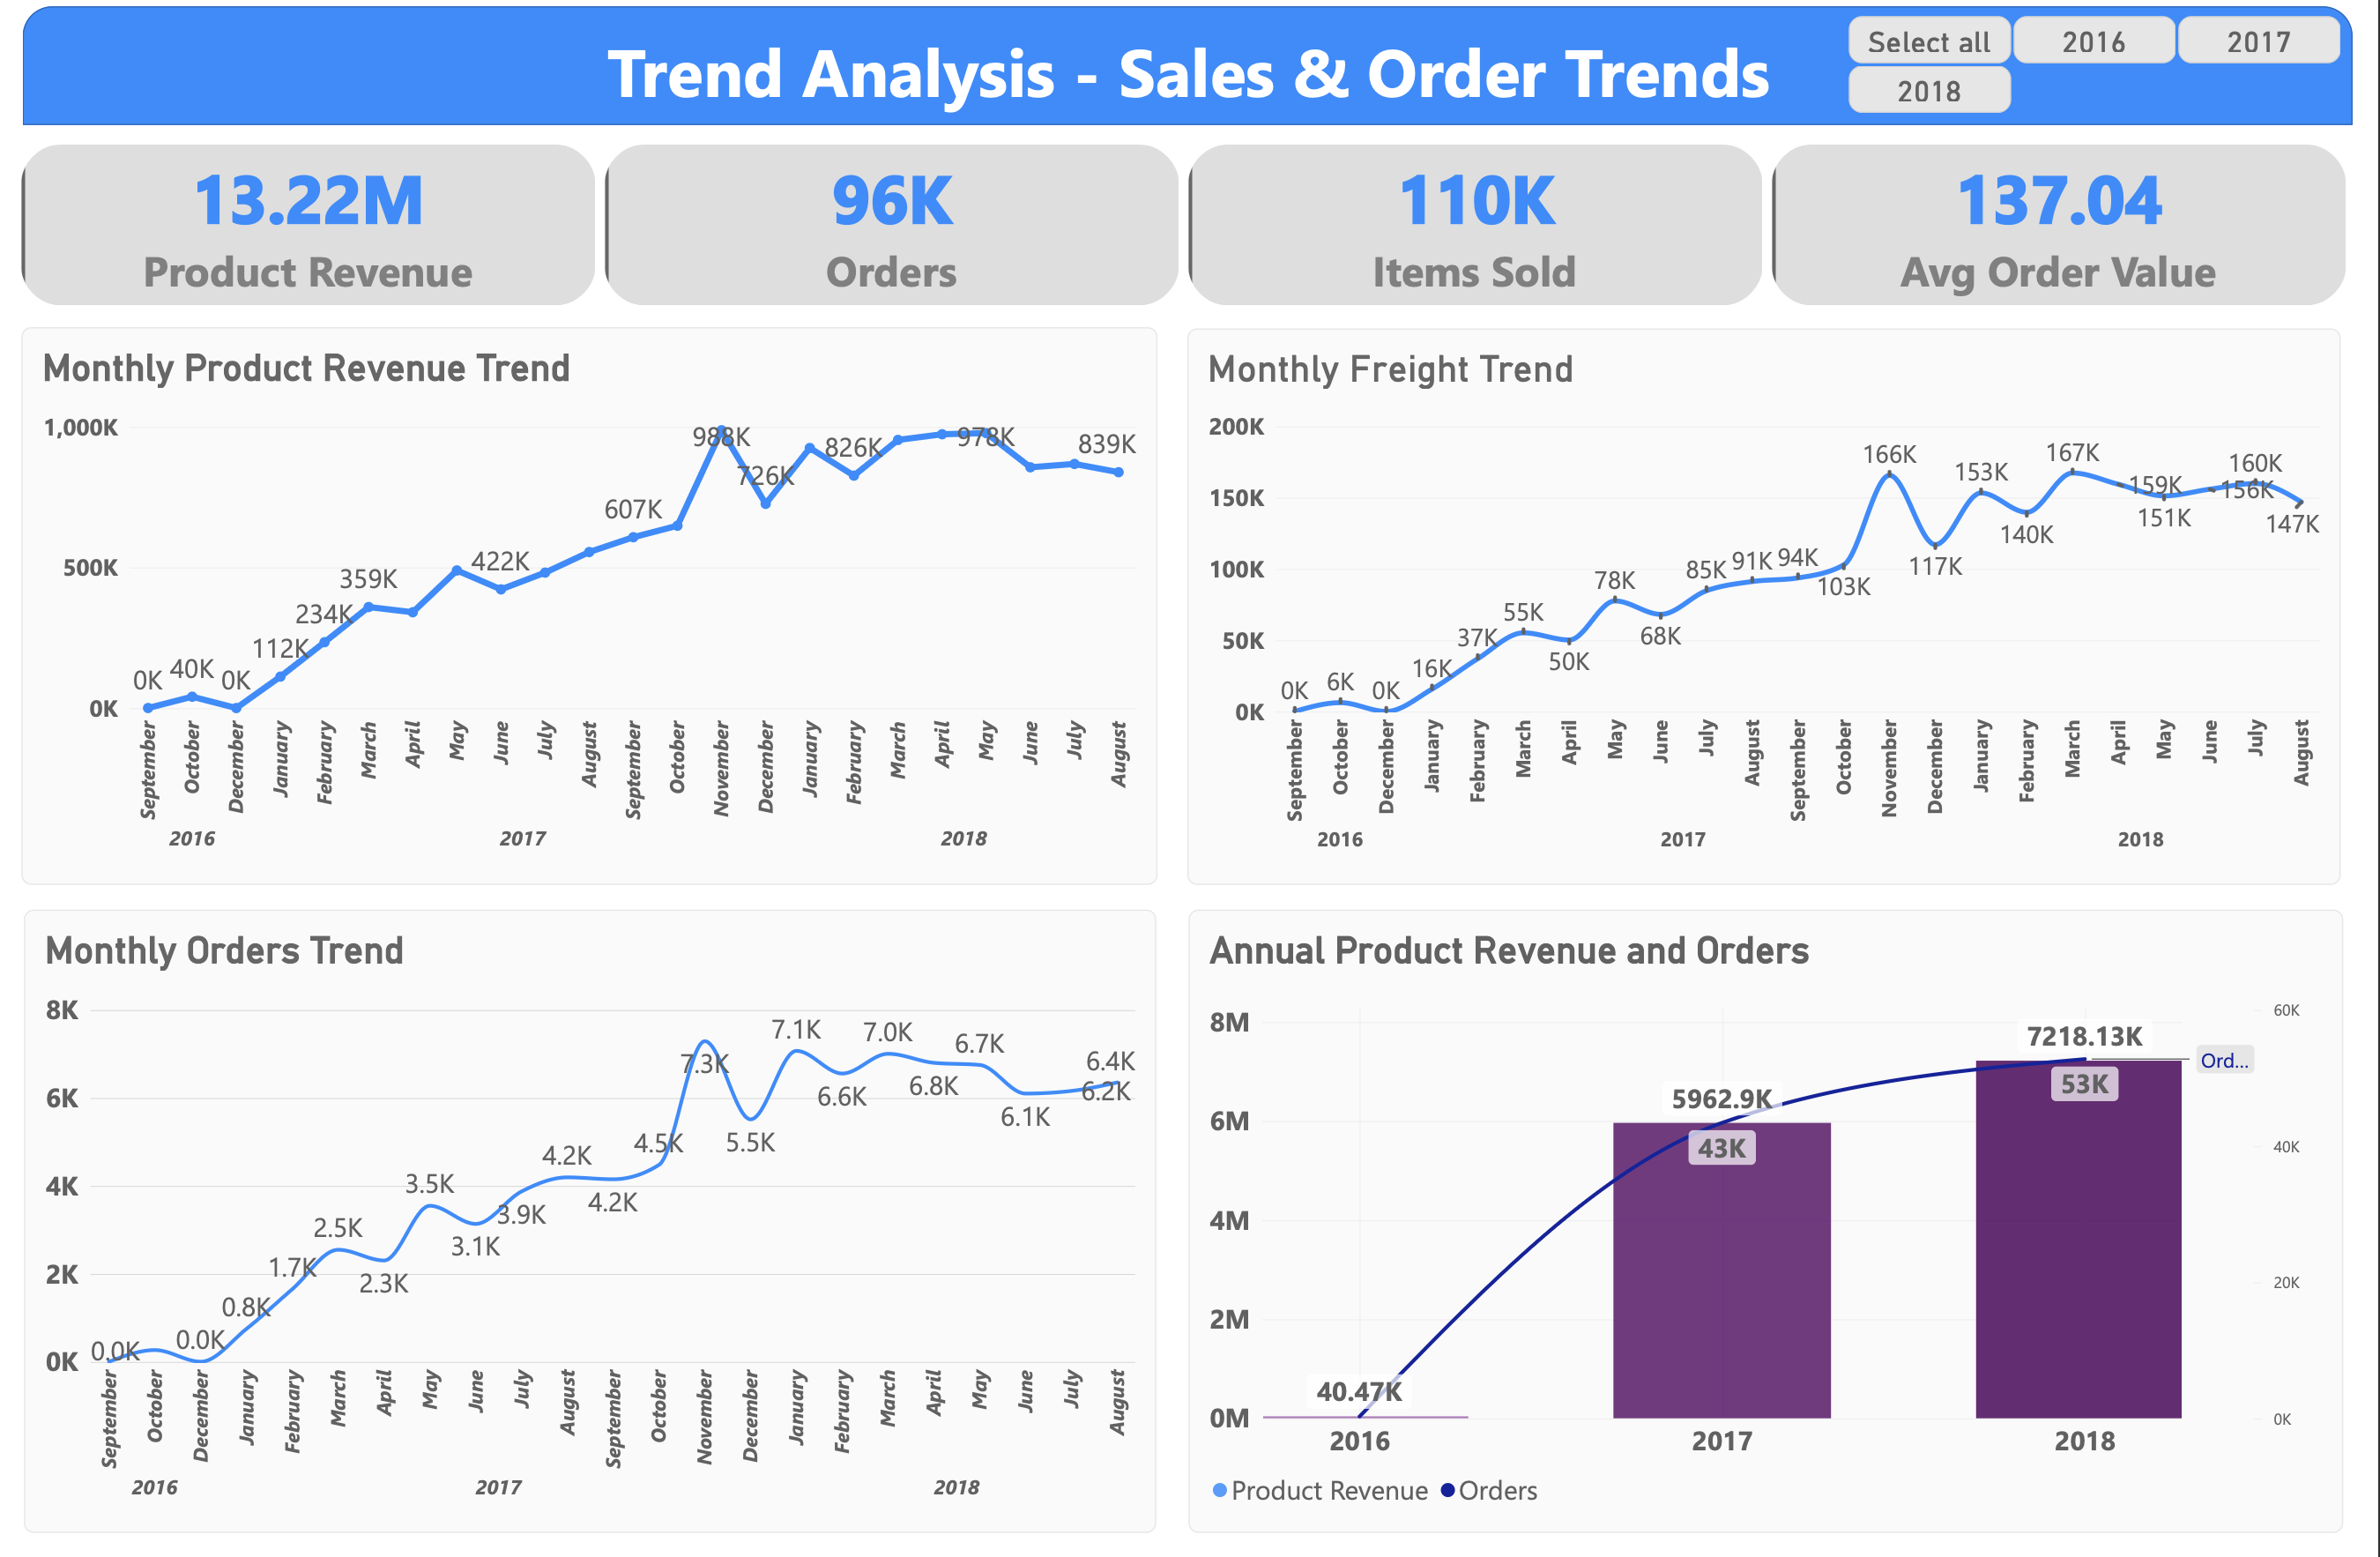

What the dashboard file says about the page in this screenshot:
{"tool":"powerbi","page":{"name":"Trend Analysis","canvas":[1920,1250],"ordinal":1},"visuals":[{"type":"cardVisual","fields":{"Data":["FactSales.Product Revenue","FactSales.Orders","FactSales.Items Sold","FactSales.Avg Order Value"]},"box":[17.8,111.7,1879.4,129.5],"z":0},{"type":"shape","box":[18.8,0,1880.6,95.9],"z":1000},{"type":"lineChart","title":"Monthly Product Revenue Trend","fields":{"Category":["DimDate.FullDate.Variation.Date Hierarchy.Year","DimDate.FullDate.Variation.Date Hierarchy.Month"],"Y":["FactSales.Product Revenue"]},"box":[17.8,259,916.8,449.5],"z":2000},{"type":"textbox","box":[454.5,14.6,1011.2,81.3],"z":4000},{"type":"lineClusteredColumnComboChart","title":"Annual Product Revenue and Orders","fields":{"Category":["DimDate.CalendarYear"],"Y":["FactSales.Product Revenue"],"Y2":["FactSales.Orders"]},"box":[960,728.9,932.1,502.9],"z":5000},{"type":"advancedSlicerVisual","fields":{"Values":["DimDate.CalendarYear"]},"box":[1492.8,8.3,398.2,79.2],"z":6000},{"type":"lineChart","title":"Monthly Orders Trend","fields":{"Category":["DimDate.FullDate.Variation.Date Hierarchy.Year","DimDate.FullDate.Variation.Date Hierarchy.Month"],"Y":["FactSales.Orders"]},"box":[20.3,728.9,914.3,502.9],"z":8000},{"type":"lineChart","title":"Monthly Freight Trend","fields":{"Category":["DimDate.FullDate.Variation.Date Hierarchy.Year","DimDate.FullDate.Variation.Date Hierarchy.Month"],"Y":["FactSales.Total Freight"]},"box":[958.7,259.9,931,449.1],"z":9000}]}

Visuals, with their boxes in screenshot pixels (x1, y1, x2, y2), scaled from the page's 1920x1250 canvas onto the 2380x1557 screenshot:
cardVisual - FactSales.Product Revenue x FactSales.Orders: 22, 139, 2352, 301
shape: 23, 0, 2354, 119
"Monthly Product Revenue Trend" lineChart: 22, 323, 1158, 883
textbox: 563, 19, 1817, 119
"Annual Product Revenue and Orders" lineClusteredColumnComboChart: 1190, 908, 2346, 1534
advancedSlicerVisual - DimDate.CalendarYear: 1850, 11, 2344, 109
"Monthly Orders Trend" lineChart: 26, 908, 1158, 1534
"Monthly Freight Trend" lineChart: 1188, 324, 2342, 883
